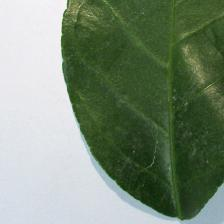healthy: (61, 0, 224, 220)
